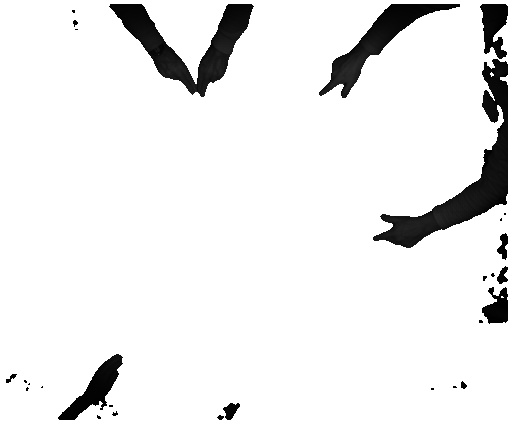hand: (312, 52, 367, 103), (154, 53, 198, 95), (89, 352, 127, 400), (368, 214, 423, 247), (198, 57, 231, 103)
